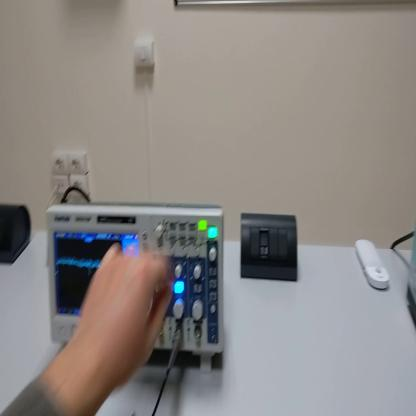hand: (78, 244, 171, 388)
oscilloscope: (44, 206, 223, 376)
socket: (2, 203, 32, 265)
welder station: (407, 224, 416, 332)
